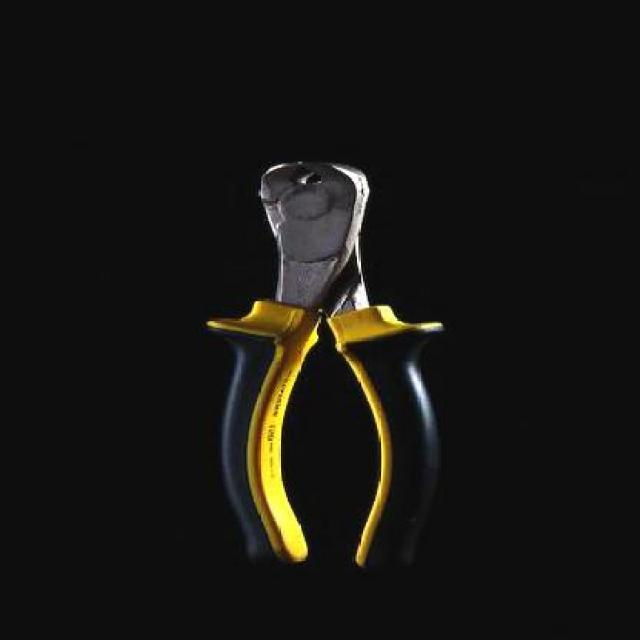pliers: (197, 131, 451, 567)
